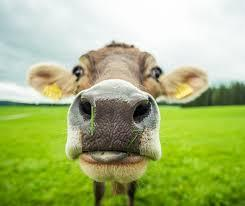cow: (27, 43, 210, 206)
